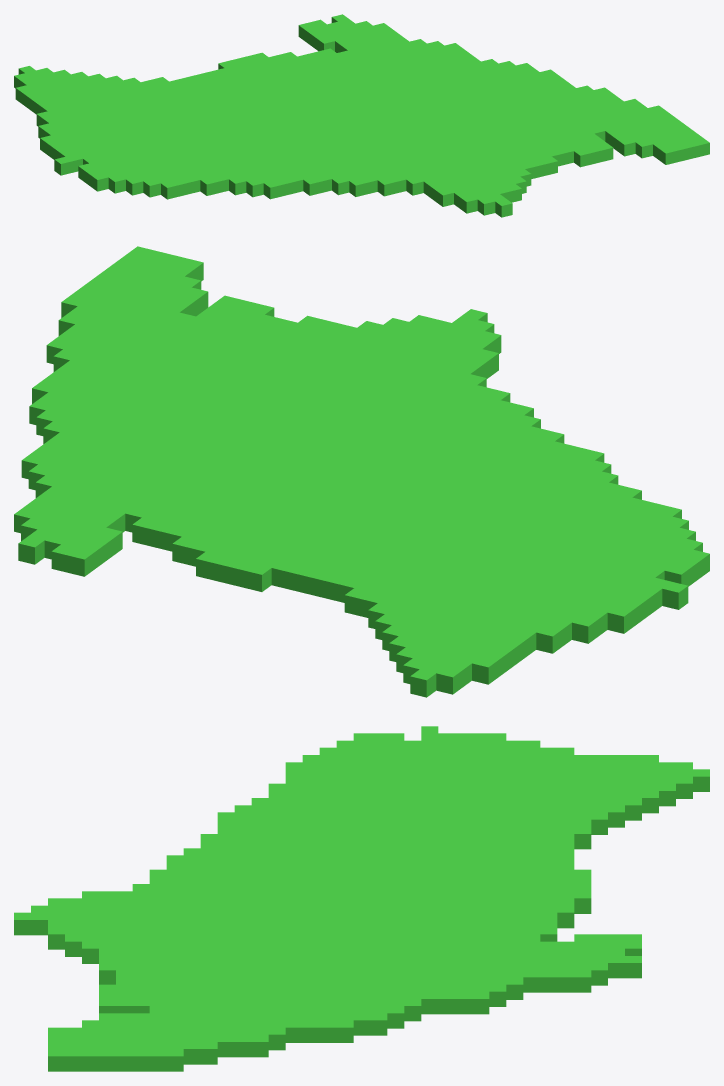
File: Johor.fbx
The picture shows the model from 3 angles, top to bottom: view 1: azimuth 30°, elevation 25°; view 2: azimuth 150°, elevation 25°; view 3: azimuth 270°, elevation 25°; orthographic projection. The views are drawn at different scales.
Visible parts, largest first — view 1: Johor; view 2: Johor; view 3: Johor.
Boxes of the visible parts, x1=… form: Johor: x1=14, y1=14, x2=709, y2=217; Johor: x1=14, y1=246, x2=709, y2=697; Johor: x1=14, y1=726, x2=709, y2=1071.
Bounding box in the file's own units: 46 × 1 × 41.
Materials: 1 (1 with a texture image).
